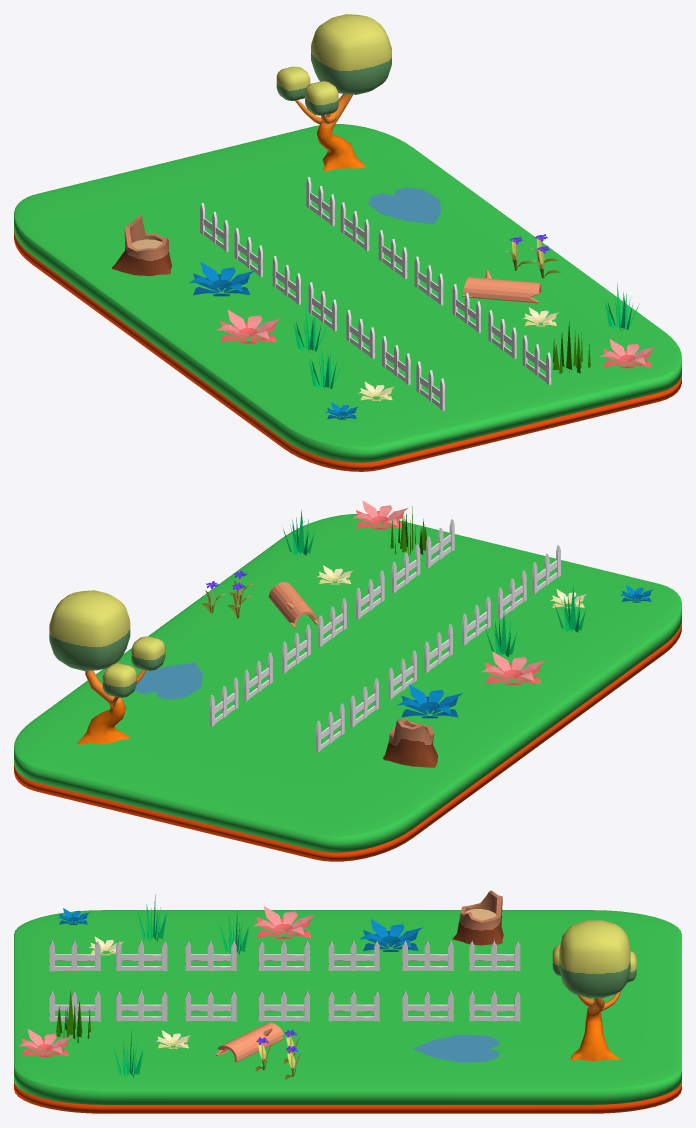
The model's file is forest_load_1.glb.
3 views of the same model, one above another, from view 1: azimuth 30°, elevation 25°; view 2: azimuth 150°, elevation 25°; view 3: azimuth 270°, elevation 25° (orthographic). The views are drawn at different scales.
Visible parts, largest first — view 1: Cube, Tree.011, Cube.001, Stump.008, Flowers.003, Circle.003, Flowers.002, Flowers.007, Flowers.004, Grass.004, wooden sticks.013, wooden sticks.008 (+11 smaller); view 2: Cube, Tree.011, Cube.001, Stump.008, Flowers.003, Flowers.002, Flowers.007, Circle.003, Flowers.004, Grass.004, wooden sticks.013, wooden sticks.008 (+15 smaller); view 3: Cube, Tree.011, Cube.001, Stump.008, Flowers.003, Circle.003, Flowers.007, Flowers.002, wooden sticks.009, wooden sticks.007, wooden sticks.012, wooden sticks.011 (+16 smaller).
Boxes of the visible parts, x1,y1,x2,y2 form: Cube: (14, 124, 681, 462); Tree.011: (276, 14, 391, 171); Cube.001: (14, 230, 681, 471); Stump.008: (112, 214, 171, 276); Flowers.003: (368, 187, 441, 224); Circle.003: (462, 270, 541, 303); Flowers.002: (189, 262, 254, 296); Flowers.007: (216, 310, 280, 343); Flowers.004: (600, 339, 655, 368); Grass.004: (553, 321, 590, 374); wooden sticks.013: (522, 335, 551, 384); wooden sticks.008: (340, 202, 369, 251); Cube: (14, 514, 681, 852); Tree.011: (49, 590, 165, 744); Cube.001: (14, 620, 681, 861); Stump.008: (383, 718, 437, 767); Flowers.003: (134, 662, 202, 699); Flowers.002: (397, 684, 462, 718); Flowers.007: (481, 651, 545, 685); Circle.003: (268, 582, 318, 627); Flowers.004: (352, 500, 407, 529); Grass.004: (390, 506, 426, 555); wooden sticks.013: (426, 519, 454, 568); wooden sticks.008: (244, 652, 272, 701); Cube: (14, 910, 681, 1104); Tree.011: (552, 920, 636, 1061); Cube.001: (14, 1081, 681, 1113); Stump.008: (452, 890, 503, 945); Flowers.003: (413, 1035, 499, 1062); Circle.003: (215, 1022, 284, 1062); Flowers.007: (253, 906, 315, 938); Flowers.002: (359, 919, 422, 951); wooden sticks.009: (328, 991, 379, 1021); wooden sticks.007: (469, 991, 520, 1021); wooden sticks.012: (116, 991, 167, 1021); wooden sticks.011: (185, 991, 236, 1021).
Bounding box in the file's own units: 20 × 8.28 × 31.28.
Materials: 33 (15 with a texture image).
